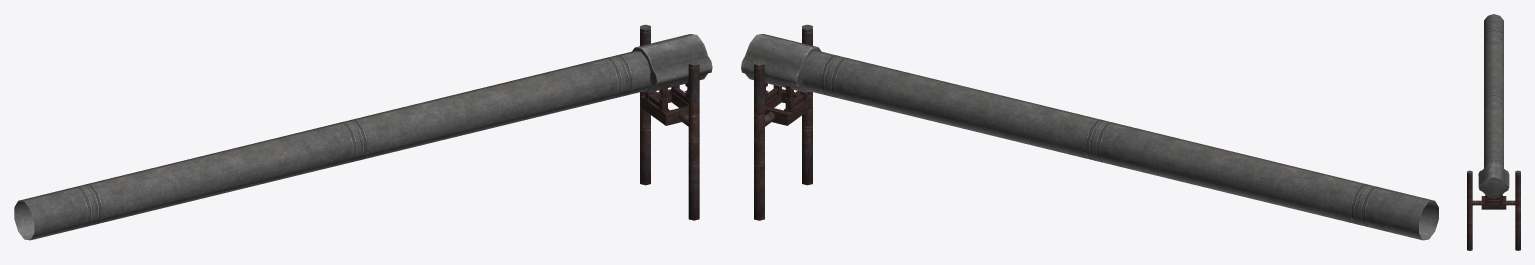
File: pipe_03.FBX
3 renders of one model, left to right at view 1: azimuth 30°, elevation 25°; view 2: azimuth 150°, elevation 25°; view 3: azimuth 270°, elevation 25°, orthographic. The views are drawn at different scales.
Visible parts, largest first — view 1: Object445, Object441; view 2: Object445, Object441; view 3: Object445, Object441.
Boxes of the visible parts, x1=… form: Object445: x1=14, y1=51, x2=650, y2=240; Object441: x1=632, y1=24, x2=712, y2=220; Object445: x1=802, y1=51, x2=1438, y2=240; Object441: x1=741, y1=24, x2=821, y2=220; Object445: x1=1484, y1=14, x2=1503, y2=167; Object441: x1=1467, y1=163, x2=1520, y2=250.
Size of the model in its own units: 1338 by 184 by 300.
Materials: 1 (1 with a texture image).
